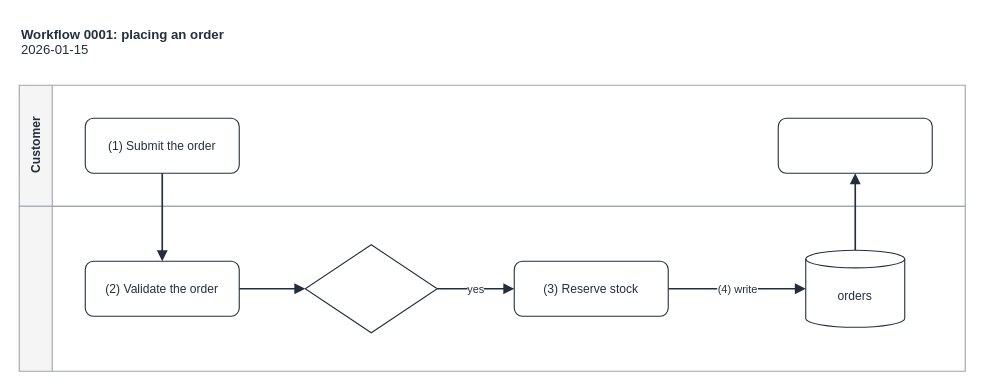
Some shapes in this 985 by 391 pixel diagram are drawn without their labels. The shapes that lost their labels are listed below. From the top down, each one's box as (x1, y1, x2, y2) in pixels, then its label:
(777, 117, 932, 173): (5) Receive confirmation
(304, 244, 437, 333): In stock?
(18, 205, 965, 371): api
